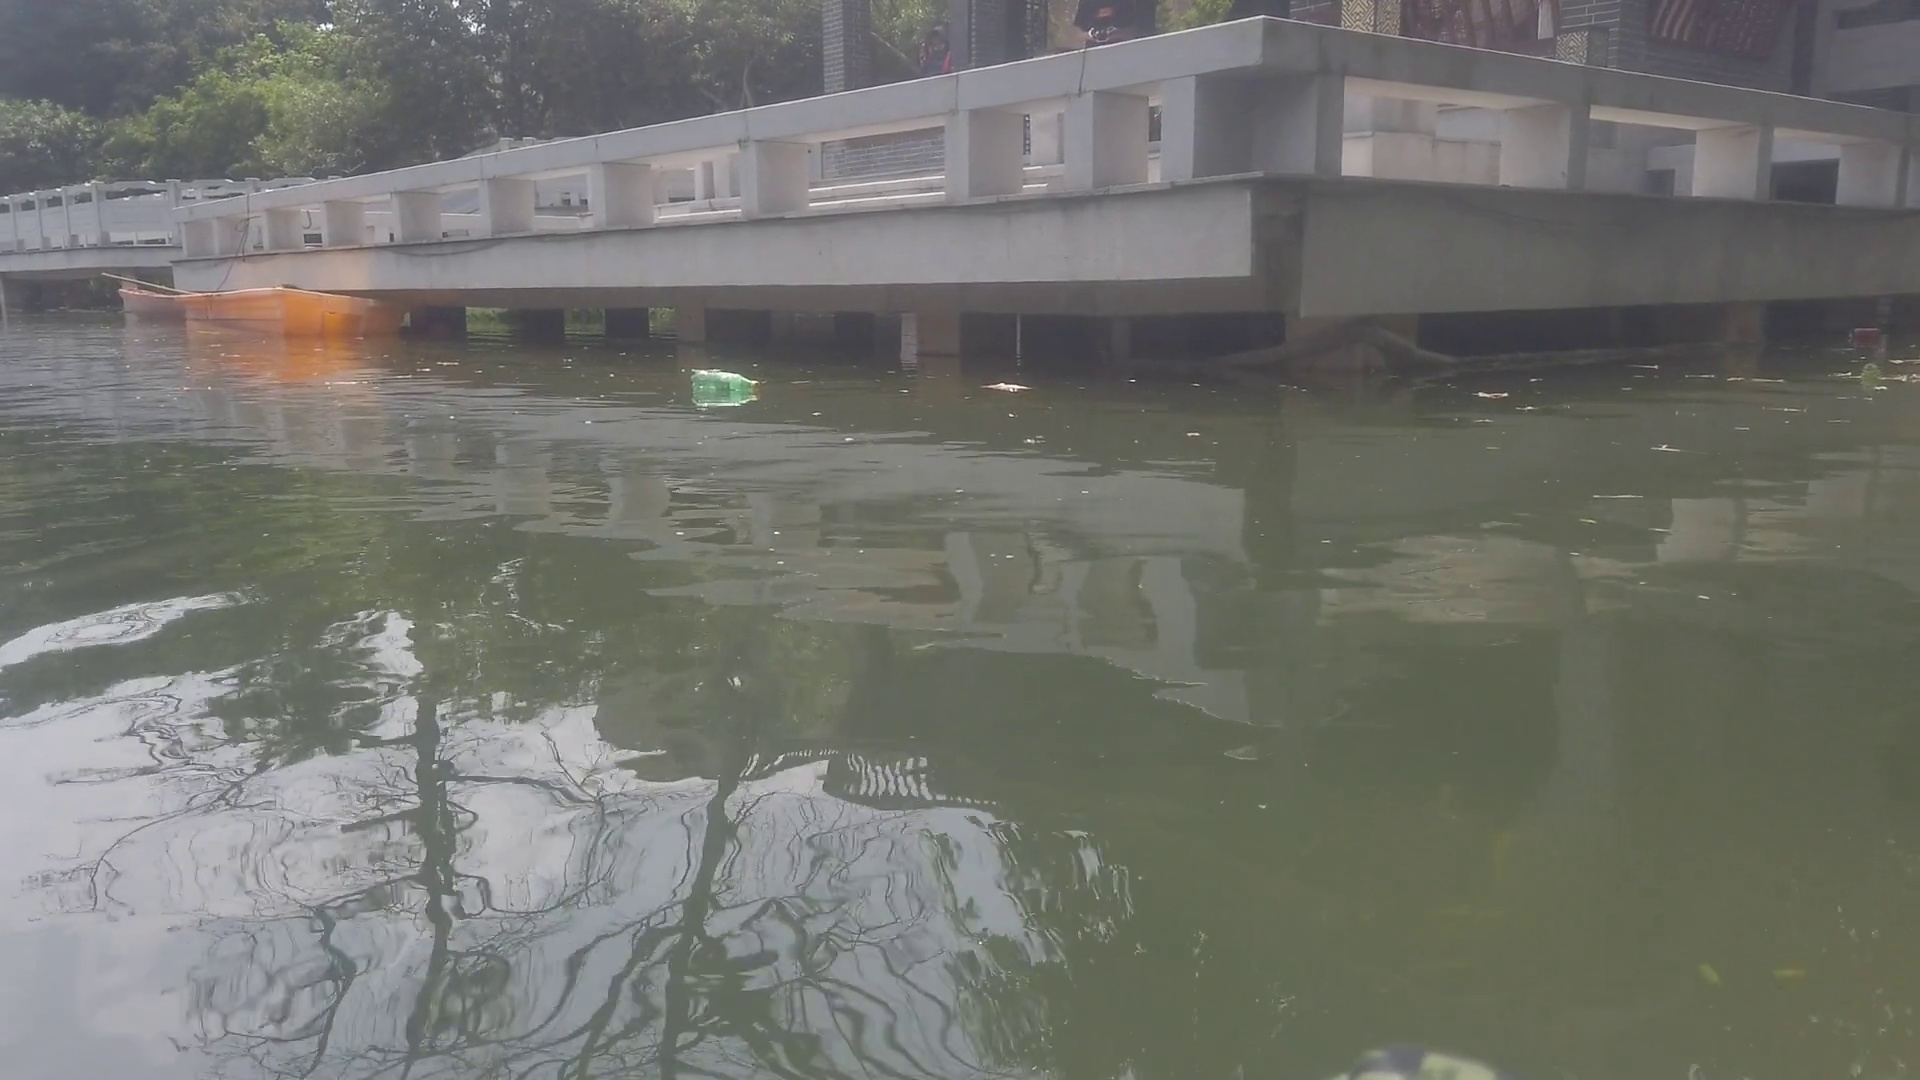bottle: (688, 369, 760, 390)
paper: (986, 378, 1035, 401)
